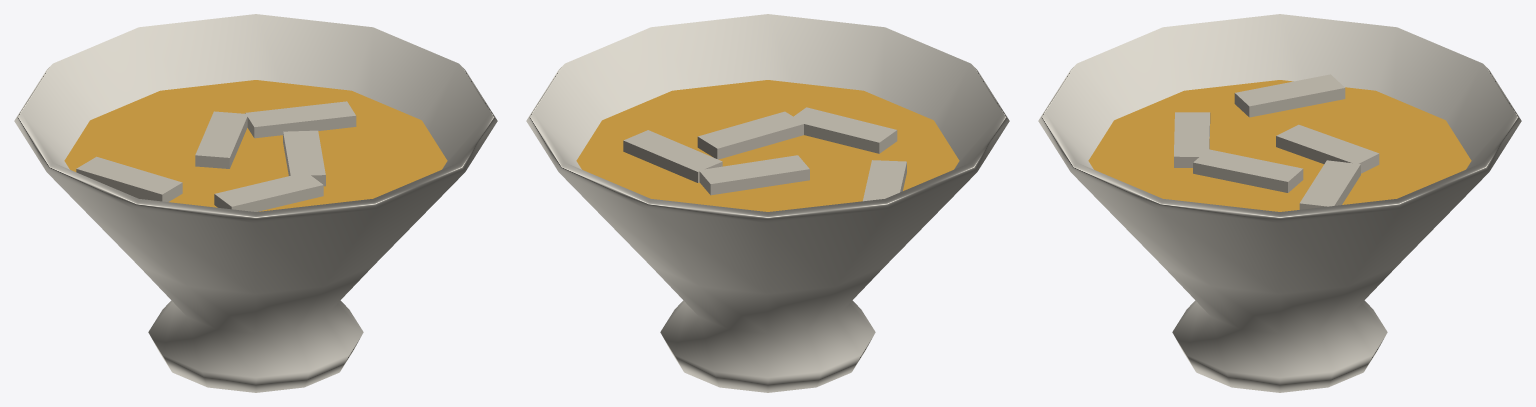
Rendered from SM_SoupBowl.glb.
3 views of the same model, side by side, from view 1: azimuth 30°, elevation 25°; view 2: azimuth 150°, elevation 25°; view 3: azimuth 270°, elevation 25° (orthographic).
Visible parts, largest first — view 1: SM_SoupBowl_Bowl, SM_SoupBowl_Broth, SM_SoupBowl_Bamboo5, SM_SoupBowl_Bamboo2, SM_SoupBowl_Bamboo3, SM_SoupBowl_Bamboo4, SM_SoupBowl_Bamboo1; view 2: SM_SoupBowl_Bowl, SM_SoupBowl_Broth, SM_SoupBowl_Bamboo4, SM_SoupBowl_Bamboo1, SM_SoupBowl_Bamboo2, SM_SoupBowl_Bamboo5, SM_SoupBowl_Bamboo3; view 3: SM_SoupBowl_Bowl, SM_SoupBowl_Broth, SM_SoupBowl_Bamboo3, SM_SoupBowl_Bamboo1, SM_SoupBowl_Bamboo4, SM_SoupBowl_Bamboo5, SM_SoupBowl_Bamboo2.
Boxes of the visible parts, x1,y1,x2,y2 form: SM_SoupBowl_Bowl: (14,14,497,392); SM_SoupBowl_Broth: (64,80,447,211); SM_SoupBowl_Bamboo5: (245,101,356,138); SM_SoupBowl_Bamboo2: (214,172,323,211); SM_SoupBowl_Bamboo3: (76,156,182,201); SM_SoupBowl_Bamboo4: (195,111,248,168); SM_SoupBowl_Bamboo1: (283,130,325,186); SM_SoupBowl_Bowl: (526,14,1009,392); SM_SoupBowl_Broth: (576,80,959,211); SM_SoupBowl_Bamboo4: (699,155,809,195); SM_SoupBowl_Bamboo1: (697,111,804,159); SM_SoupBowl_Bamboo2: (793,107,897,153); SM_SoupBowl_Bamboo5: (623,130,722,182); SM_SoupBowl_Bamboo3: (863,160,906,201); SM_SoupBowl_Bowl: (1038,14,1521,392); SM_SoupBowl_Broth: (1088,80,1471,211); SM_SoupBowl_Bamboo3: (1234,74,1345,117); SM_SoupBowl_Bamboo1: (1193,149,1303,192); SM_SoupBowl_Bamboo4: (1276,124,1379,173); SM_SoupBowl_Bamboo5: (1299,160,1360,209); SM_SoupBowl_Bamboo2: (1174,112,1210,167).
Size of the model in its own units: 0.1375 by 0.075 by 0.1375.
